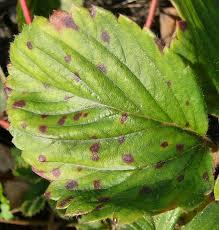leaf_spot: (10, 10, 213, 200)
